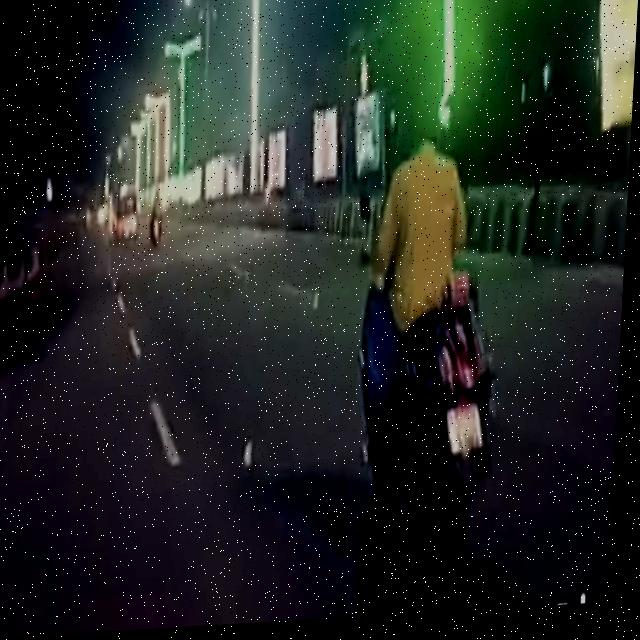bike: (344, 205, 506, 586), (143, 200, 171, 258)
